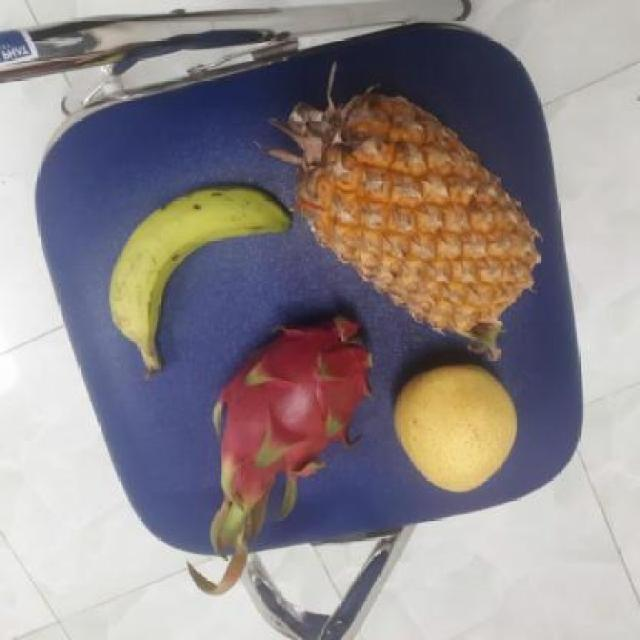banana: (105, 183, 290, 371)
dragon fruit: (210, 315, 376, 493)
pear: (385, 363, 519, 491)
pineapple: (282, 96, 526, 339)
